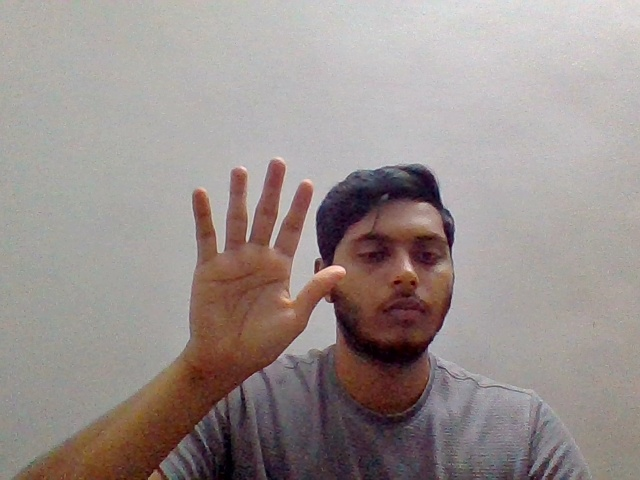Hello: (182, 151, 353, 390)
